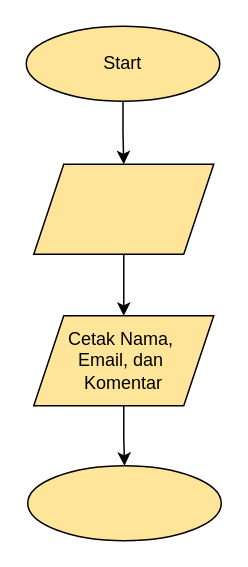
Image size: 248x567. Some labels were removed from this diagram. The centre of each missing label's shape, as x and y in pixels:
"End" belongs at (x=123, y=502).
"Input Nama, Email, dan Komentar" belongs at (x=123, y=208).
